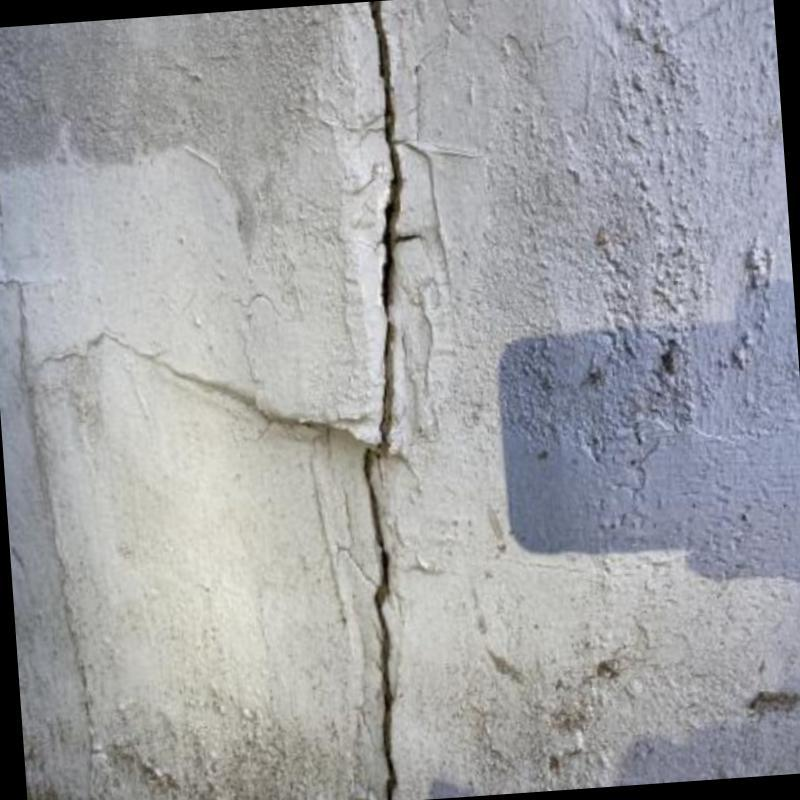pothole: (363, 1, 402, 799)
